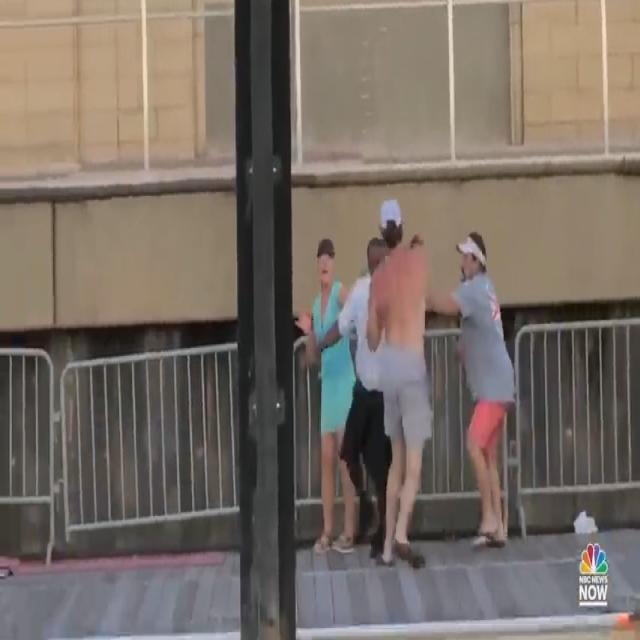fight: (290, 188, 522, 577)
